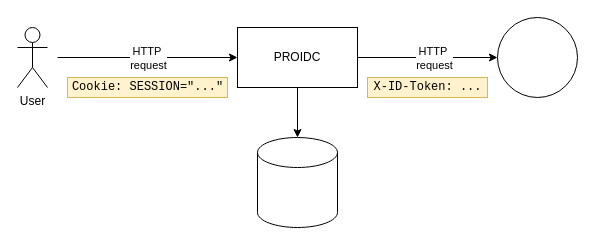
Image size: 595x245. Some labels were removed from this diagram. The centre of each missing label's shape, as x and y in pixels:
In-memory session storage: point 297,182
Upstream application: point 537,57
